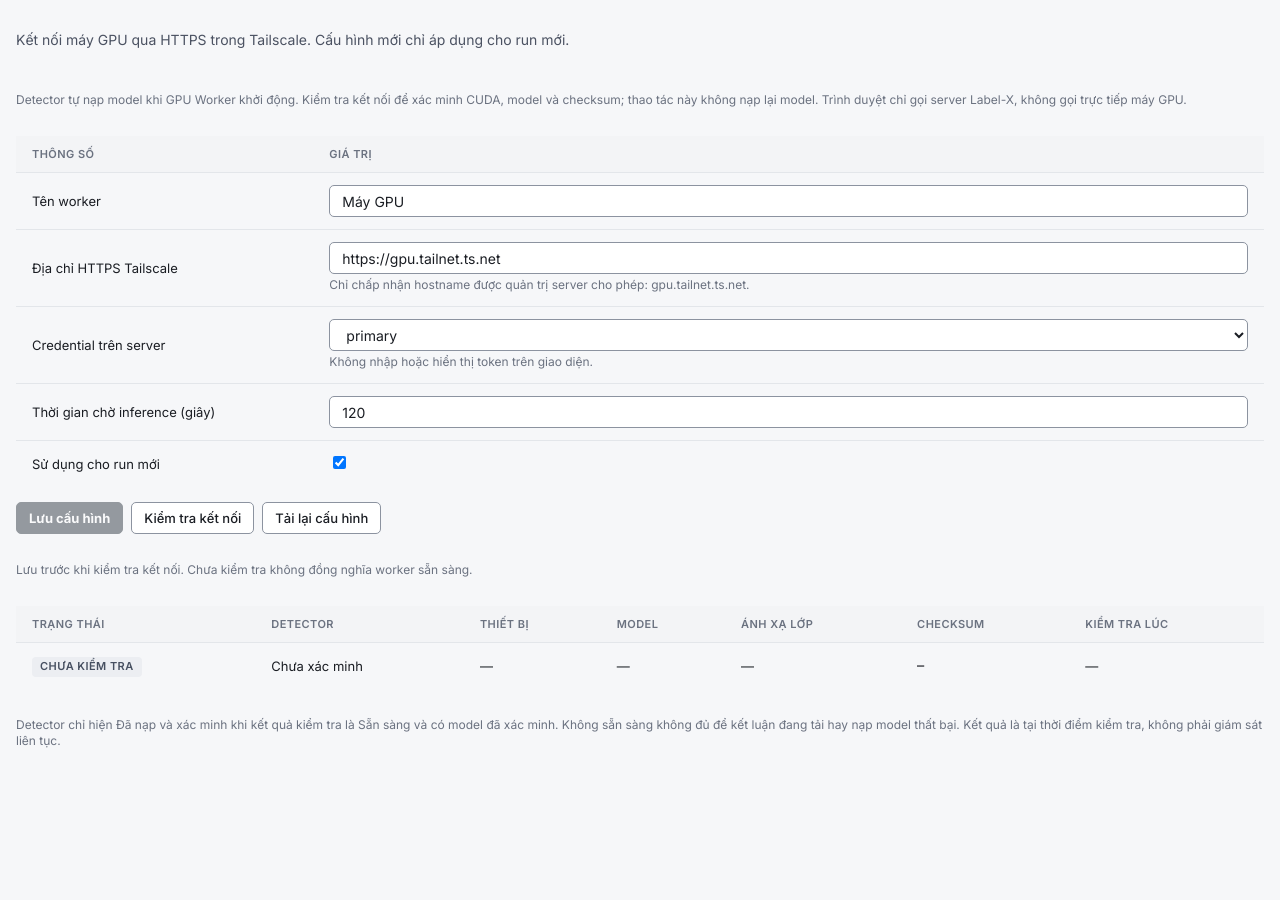
Test: loads real config, never shows token input and only ready means ready
The width and height of the screenshot is (1280, 900).
Check: the field showing "Máy GPU" is shown, box 329,185 -> 1248,217
Click the button "Kiểm tra kết nối".
click(193, 518)  # box 131,502 -> 254,534
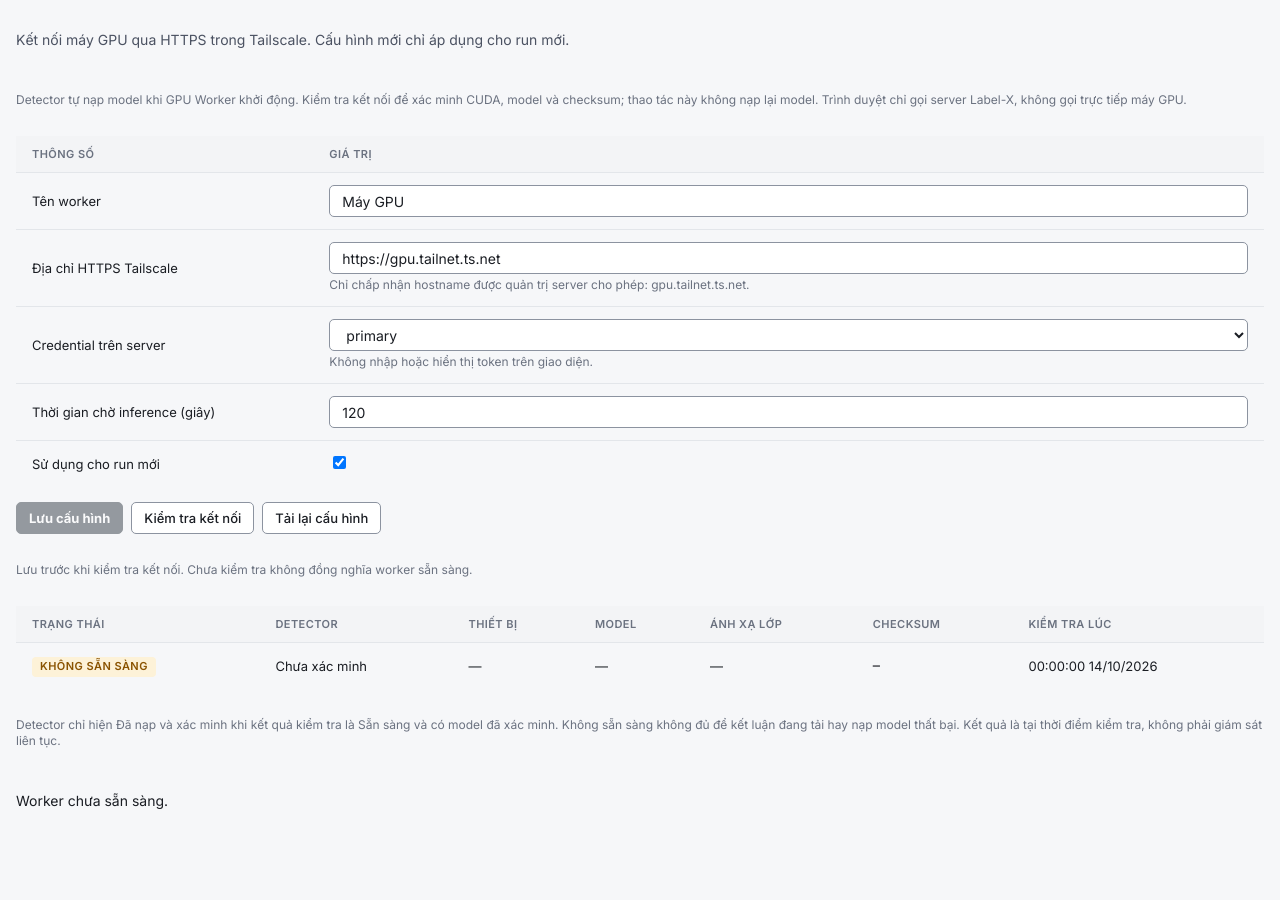
Check: the text "Không sẵn sàng" is shown, box 32,656 -> 156,676
